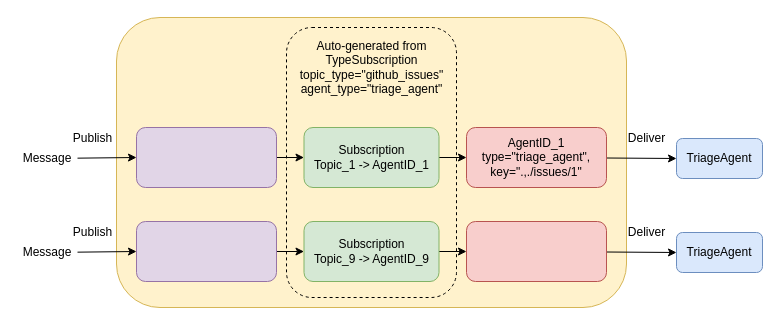
Image size: 780x325. Some labels were removed from this diagram. Here are the shapes that lost their labels. From the top down, the centre of each, then its label:
the point at 206,157: Topic_1 type="github_issues" source=".../issues/1"
the point at 206,251: Topic_9 type="github_issues" source=".../issues/9"
the point at 536,251: AgentID_9 type="triage_agent", key=".,./issues/9"
